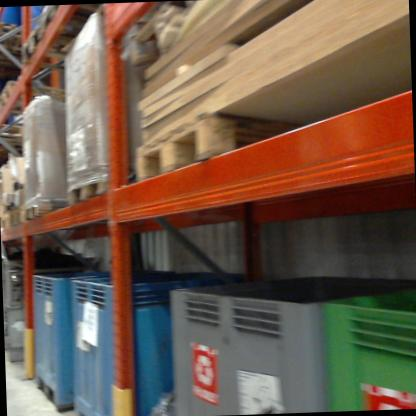pallet: (128, 103, 346, 202), (16, 26, 92, 78), (0, 76, 82, 123), (25, 6, 119, 43), (65, 167, 133, 205), (23, 190, 75, 230), (0, 19, 22, 58), (4, 203, 22, 233)
stillage: (4, 249, 106, 374)
